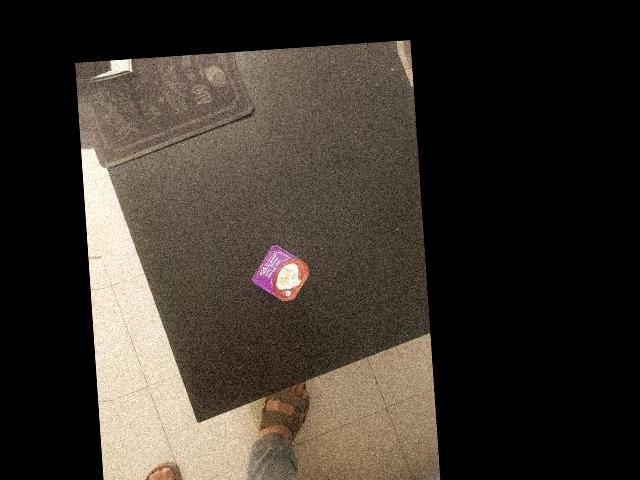milky: (280, 168, 357, 241)
